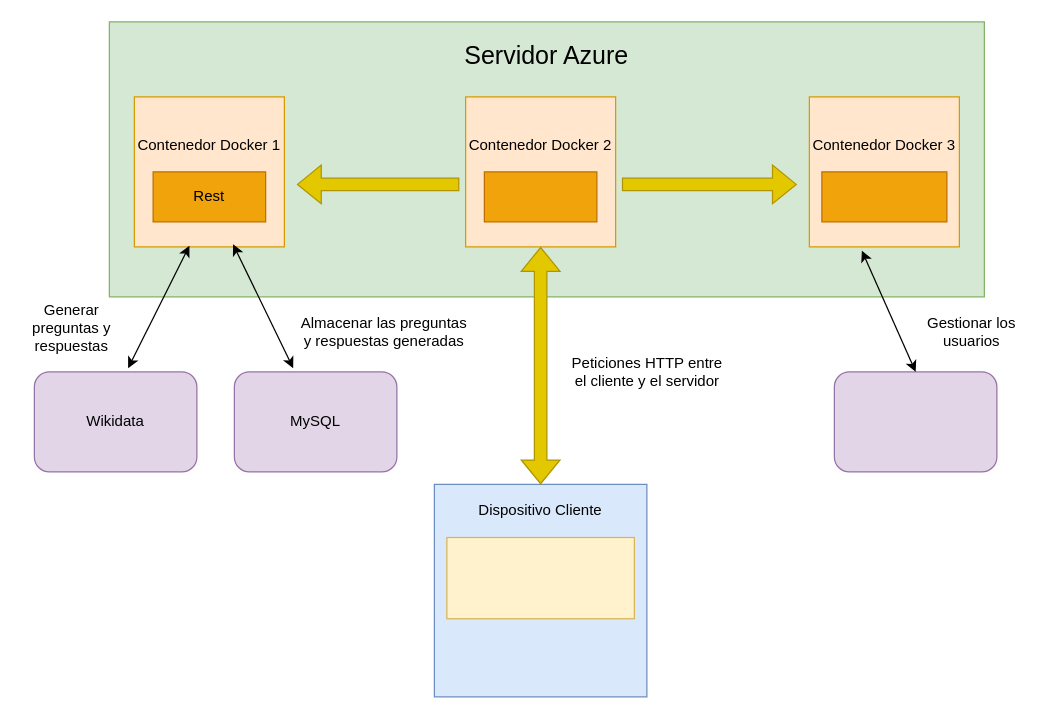
The diagram is 1043 pixels wide and 719 high, and some of its shapes have lost their labels. The shapes that lost their labels are listed below. From the top down, each one's centre as x and y in pixels, then its label:
At point (540, 196): "WebApp".
At point (884, 196): "Users".
At point (915, 421): "Firebase".
At point (540, 577): "Navegador Web".
